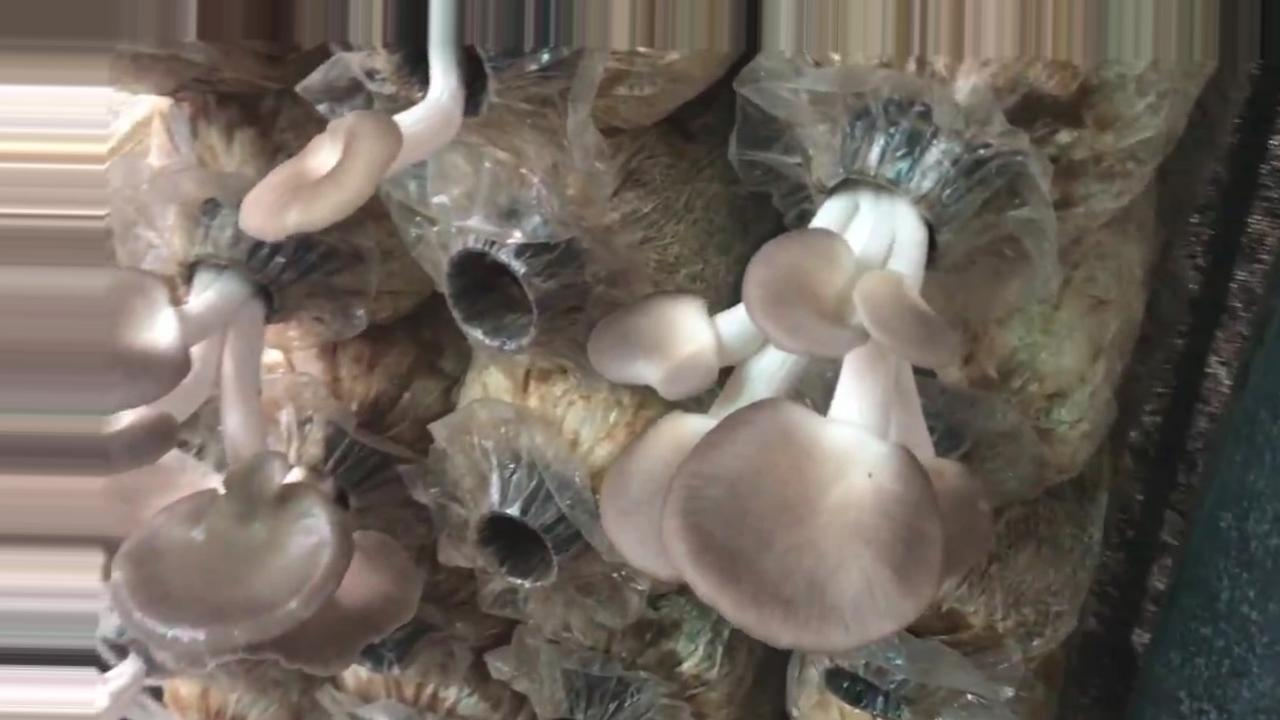nam: (586, 116, 995, 652), (1, 216, 357, 654), (238, 1, 509, 241)
